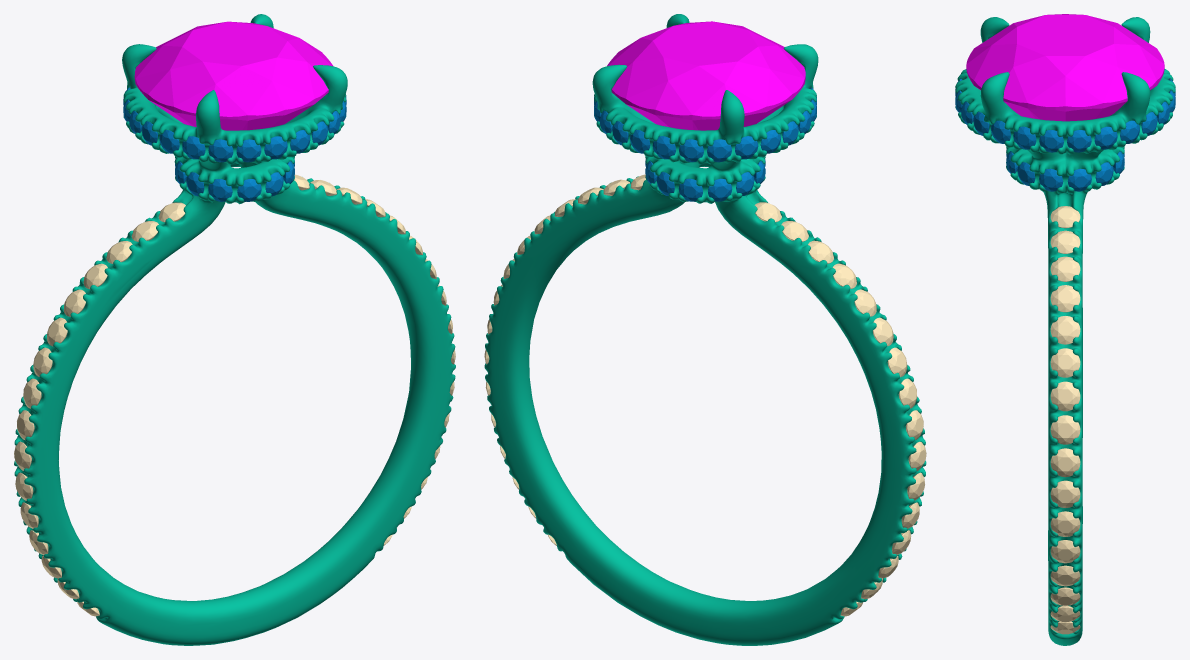
The model's file is BE1D6362P_RD_200ct_RENDER.glb.
3 renders of one model, left to right at view 1: azimuth 30°, elevation 25°; view 2: azimuth 150°, elevation 25°; view 3: azimuth 270°, elevation 25°, orthographic.
Visible parts, largest first — view 1: Metal 01, CS_Diamond_Round; view 2: Metal 01, CS_Diamond_Round; view 3: Metal 01, CS_Diamond_Round, Diamond_Round_Gem_SH.025, Diamond_Round_Gem_SH.024, Diamond_Round_Gem_SH.026, Diamond_Round_Gem_SH.023, Diamond_Round_Gem_SH.027, Diamond_Round_Gem_SH.022, Diamond_Round_Gem_SH.028, Diamond_Round_Gem_SH.021, Diamond_Round_Gem_SH.029, Diamond_Round_Gem_SH.020 (+13 smaller).
Boxes of the visible parts, left/top/right/bottom form: Metal 01: left=14, top=14, right=455, bottom=645; CS_Diamond_Round: left=134, top=21, right=332, bottom=130; Metal 01: left=484, top=14, right=926, bottom=645; CS_Diamond_Round: left=607, top=21, right=805, bottom=130; Metal 01: left=955, top=17, right=1175, bottom=645; CS_Diamond_Round: left=966, top=14, right=1164, bottom=121; Diamond_Round_Gem_SH.025: left=1050, top=381, right=1080, bottom=411; Diamond_Round_Gem_SH.024: left=1050, top=415, right=1080, bottom=444; Diamond_Round_Gem_SH.026: left=1050, top=348, right=1080, bottom=377; Diamond_Round_Gem_SH.023: left=1050, top=448, right=1080, bottom=477; Diamond_Round_Gem_SH.027: left=1050, top=316, right=1080, bottom=344; Diamond_Round_Gem_SH.022: left=1050, top=480, right=1080, bottom=507; Diamond_Round_Gem_SH.028: left=1050, top=285, right=1080, bottom=312; Diamond_Round_Gem_SH.021: left=1050, top=511, right=1080, bottom=536; Diamond_Round_Gem_SH.029: left=1050, top=256, right=1080, bottom=281; Diamond_Round_Gem_SH.020: left=1050, top=540, right=1080, bottom=563.
Bounding box in the file's own units: 19.99 × 26.18 × 8.91.
